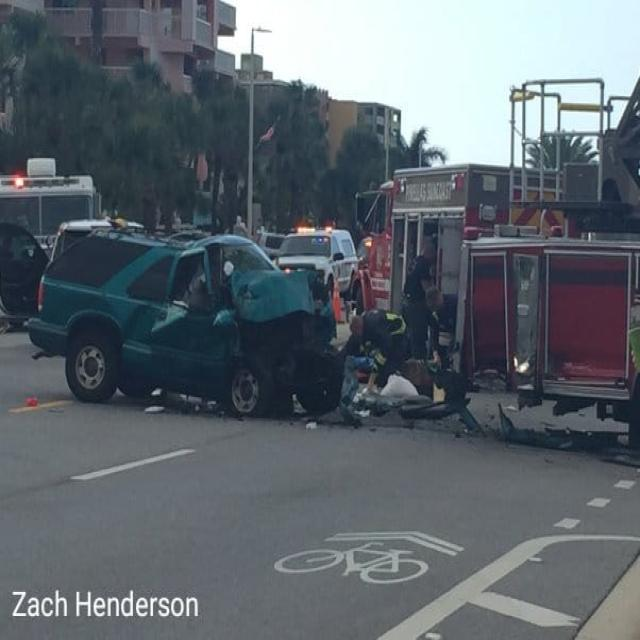accident: (29, 231, 341, 415)
